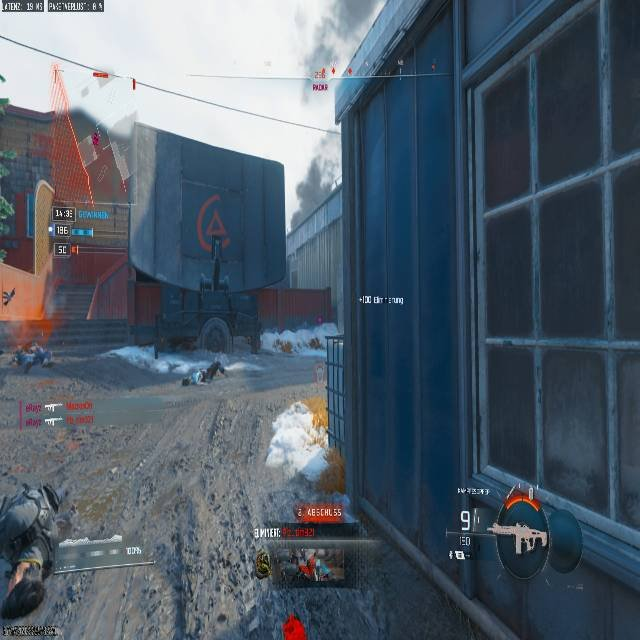head: (290, 401, 307, 418)
player: (263, 400, 325, 494)
